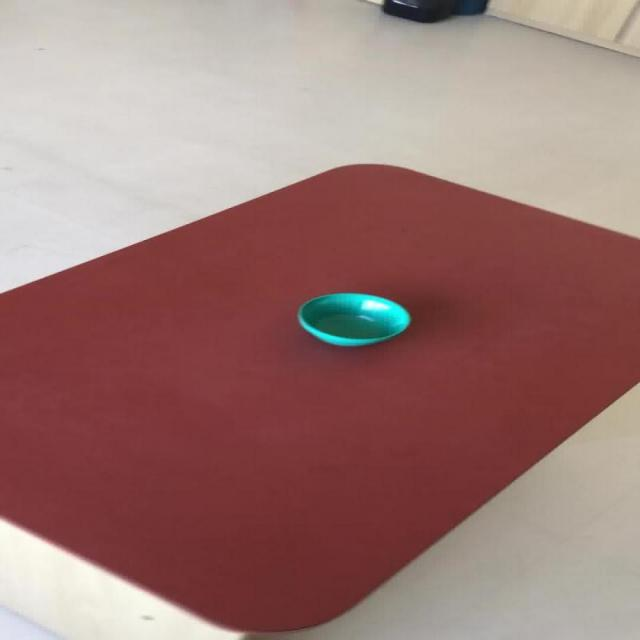Bowl: (296, 292, 410, 346)
